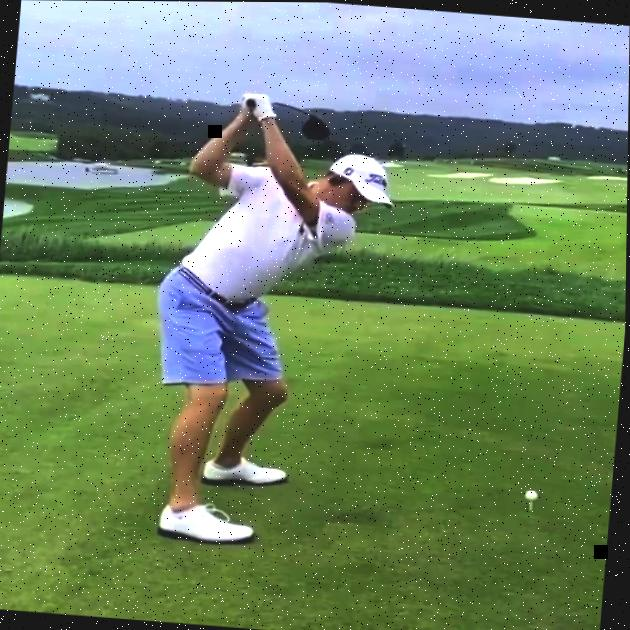ClubHead: (302, 115, 333, 140)
GolfBall: (523, 488, 543, 502)
